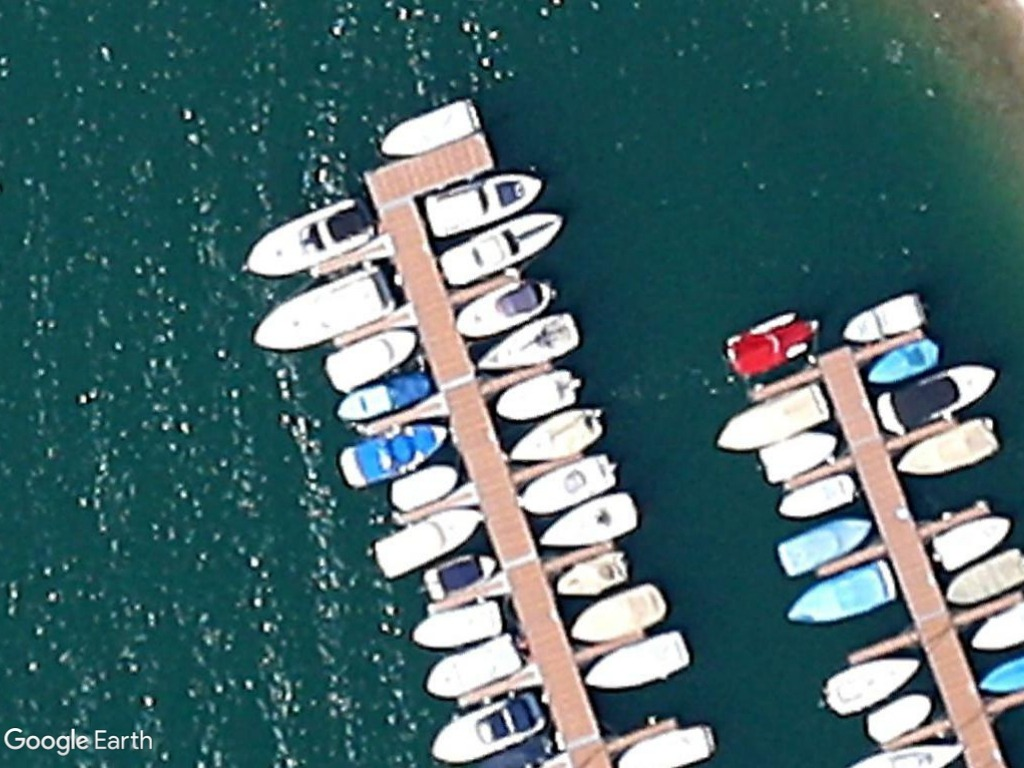boat: (249, 265, 401, 355), (236, 195, 375, 285), (436, 205, 570, 291), (874, 360, 1000, 437), (371, 502, 488, 583), (712, 382, 839, 456), (422, 686, 542, 763), (422, 165, 542, 240), (783, 557, 902, 630), (578, 624, 694, 695), (469, 304, 581, 376), (339, 418, 449, 491), (533, 482, 643, 553), (372, 92, 487, 159), (765, 508, 874, 578), (514, 452, 619, 520), (894, 411, 1000, 478), (565, 576, 668, 644), (319, 326, 420, 394), (453, 275, 556, 341), (503, 401, 606, 466), (424, 633, 526, 698), (820, 650, 922, 712), (333, 369, 433, 426), (409, 595, 509, 652), (755, 420, 844, 481), (839, 288, 931, 347), (925, 512, 1009, 576), (490, 365, 581, 424), (942, 544, 1024, 608), (549, 547, 633, 604), (773, 468, 860, 523), (420, 544, 501, 599), (863, 331, 939, 389), (860, 689, 935, 744)
